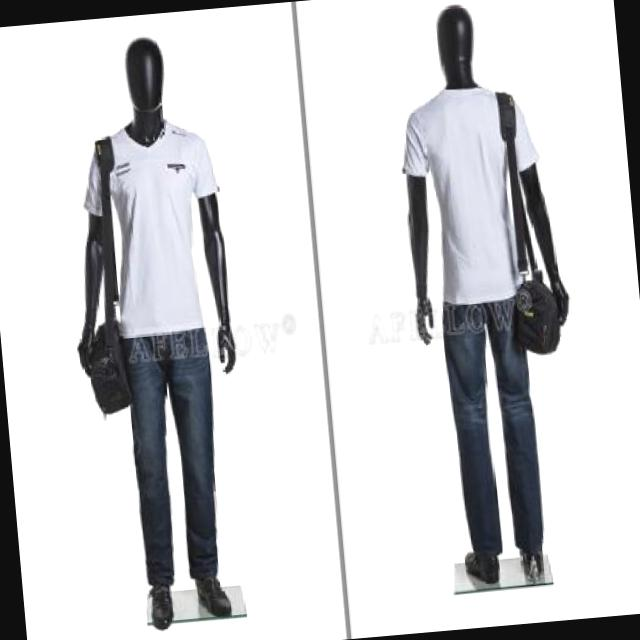Person: (42, 20, 266, 640), (375, 0, 592, 591)
